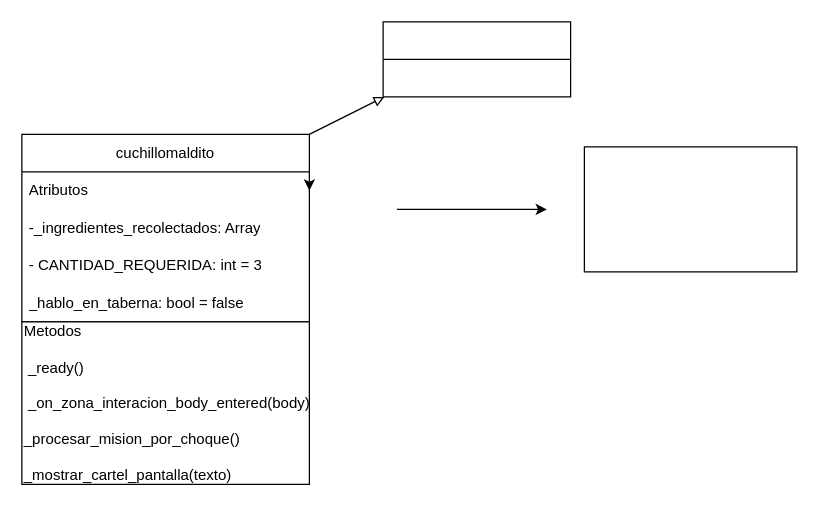
Image size: 819x524. Some labels were removed from this diagram. The centre of each missing label's shape, as x and y in pixels:
"Evenbus Métodos (Señales) item_recolectado ui_mostrar_mensaje" goes at point 690,209.
"staticBody2d" goes at point 476,59.
